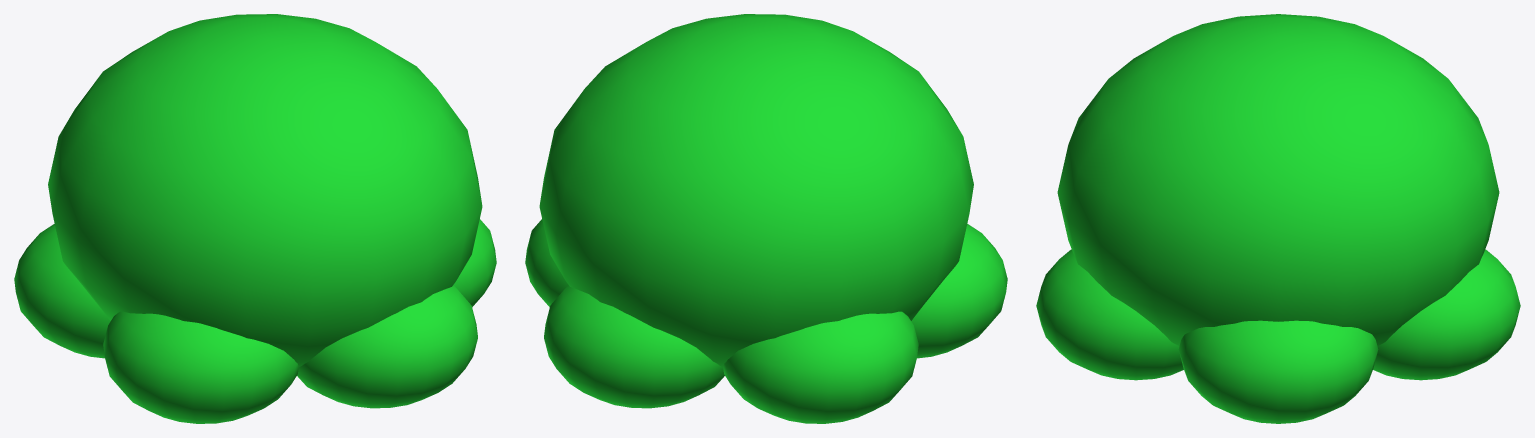
File: enemy-blob.glb
3 views of the same model, side by side, from view 1: azimuth 30°, elevation 25°; view 2: azimuth 150°, elevation 25°; view 3: azimuth 270°, elevation 25° (orthographic).
Visible parts, largest first — view 1: enemy-blob; view 2: enemy-blob; view 3: enemy-blob.
Boxes of the visible parts, <box> form: enemy-blob: <box>14,14,496,423</box>; enemy-blob: <box>525,14,1007,423</box>; enemy-blob: <box>1036,14,1520,423</box>.
Size of the model in its own units: 0.6599 by 0.48 by 0.6794.
